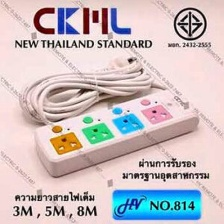three_eye_plug: (30, 83, 201, 182)
